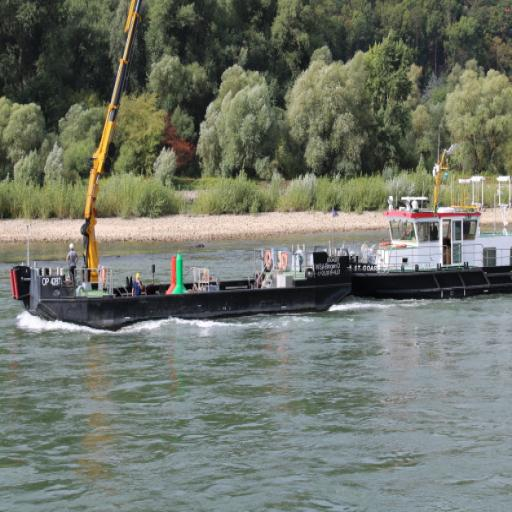tugboat: (346, 134, 512, 314)
